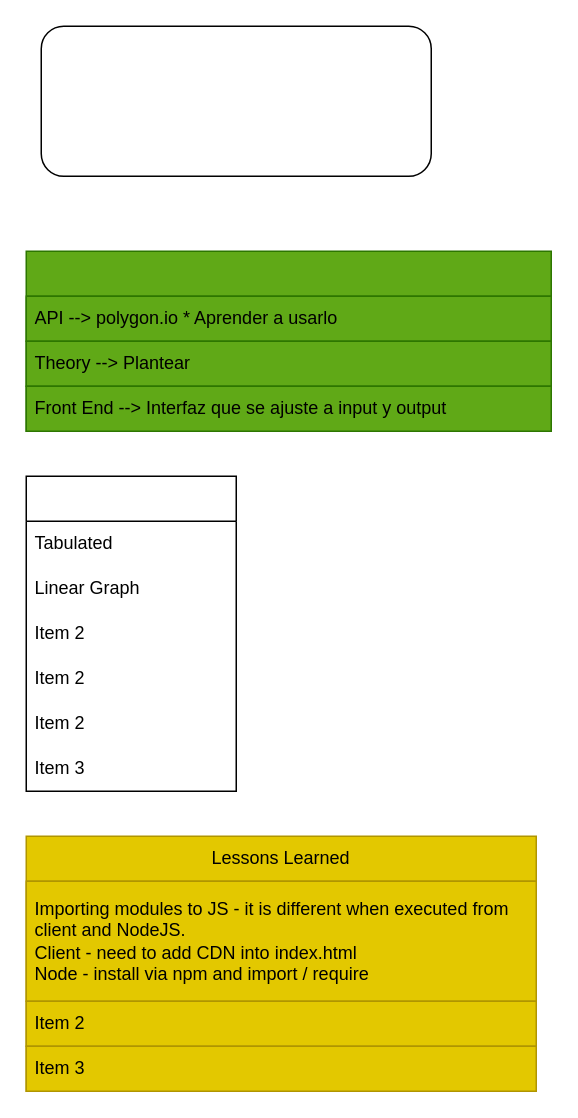
Image size: 578x1118. Some labels were removed from this diagram. The box of each missing label's shape, as (x1, y1, x2, y2) in pixels:
Class_Level 1: (25, 475, 236, 791)
Next steps - Look into obtaining options prices - app needs this to be viable.: (40, 25, 431, 176)
Task List: (25, 250, 551, 431)
